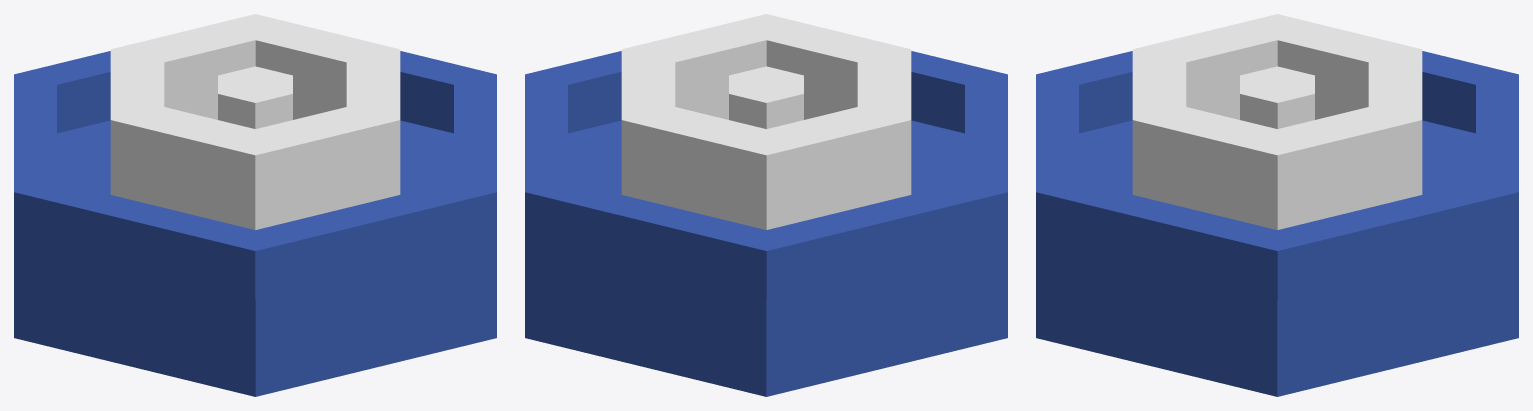
The model's file is r2c_blue_canon.fbx.
The picture shows the model from 3 angles, left to right: view 1: azimuth 30°, elevation 25°; view 2: azimuth 150°, elevation 25°; view 3: azimuth 270°, elevation 25°; orthographic projection.
Parts seen in each view (by area): view 1: 개체_3, 개체_4, 개체_1; view 2: 개체_3, 개체_4, 개체_1; view 3: 개체_3, 개체_4, 개체_1.
Boxes of the visible parts, left/top/right/bottom form: 개체_3: left=14, top=51, right=496, bottom=396; 개체_4: left=110, top=14, right=400, bottom=229; 개체_1: left=218, top=66, right=292, bottom=128; 개체_3: left=525, top=51, right=1007, bottom=396; 개체_4: left=621, top=14, right=911, bottom=229; 개체_1: left=729, top=66, right=803, bottom=128; 개체_3: left=1036, top=51, right=1518, bottom=396; 개체_4: left=1132, top=14, right=1422, bottom=229; 개체_1: left=1240, top=66, right=1314, bottom=128.
Bounding box in the file's own units: 5.2 × 2 × 4.5.
